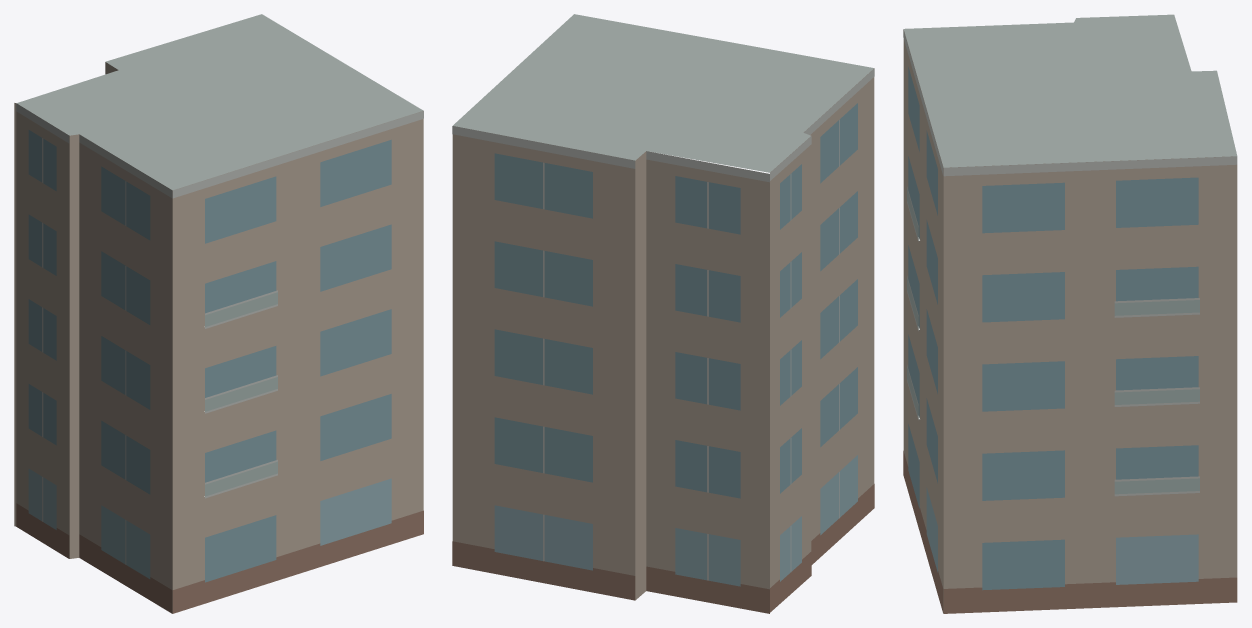
Rendered from survey-upis-32653266.glb.
3 renders of one model, left to right at view 1: azimuth 30°, elevation 25°; view 2: azimuth 150°, elevation 25°; view 3: azimuth 270°, elevation 25°, orthographic. The views are drawn at different scales.
Visible parts, largest first — view 1: survey-upis-32653266.tmp; view 2: survey-upis-32653266.tmp; view 3: survey-upis-32653266.tmp.
Part boxes in pixels (<box>): survey-upis-32653266.tmp: <box>14,14,423,613</box>; survey-upis-32653266.tmp: <box>452,14,874,613</box>; survey-upis-32653266.tmp: <box>903,14,1237,613</box>.
Bounding box in the file's own units: 9.39 × 12.7 × 8.62.
